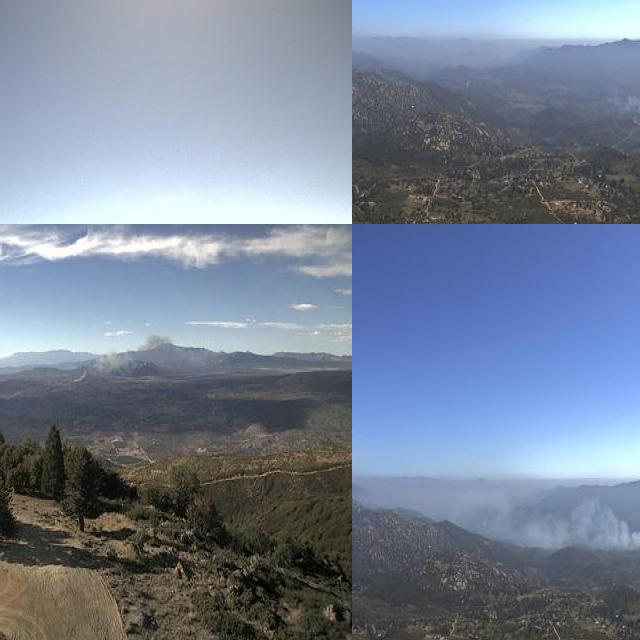smoke: (414, 476, 640, 552), (72, 329, 181, 387), (614, 88, 640, 120)
